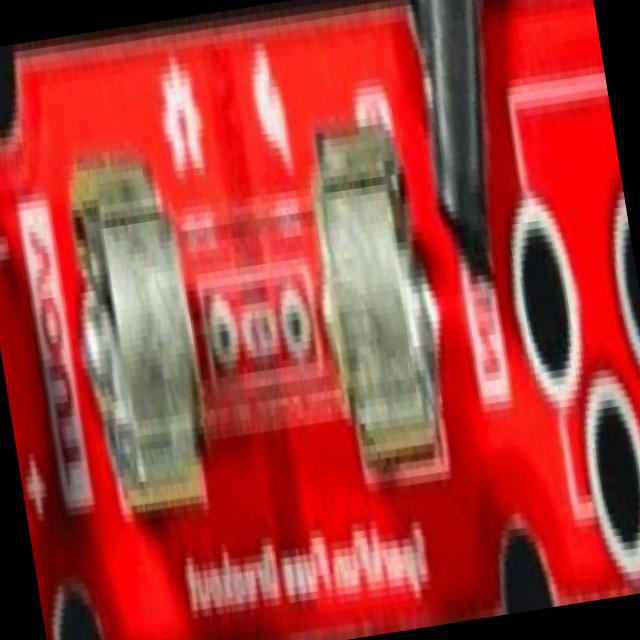connector: (59, 92, 474, 560)
